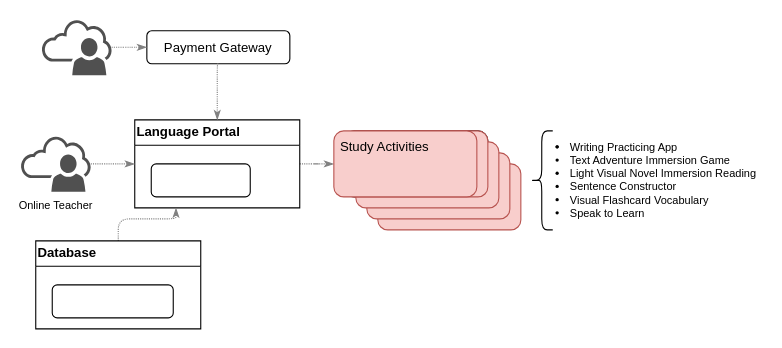
This 782x348 diagram has some shape labels left out. The centre of each missing label's shape, as x and y in pixels:
Core 2K Words: the point at 112,301
Online Student: the point at 76,47
Word Group: the point at 200,180
